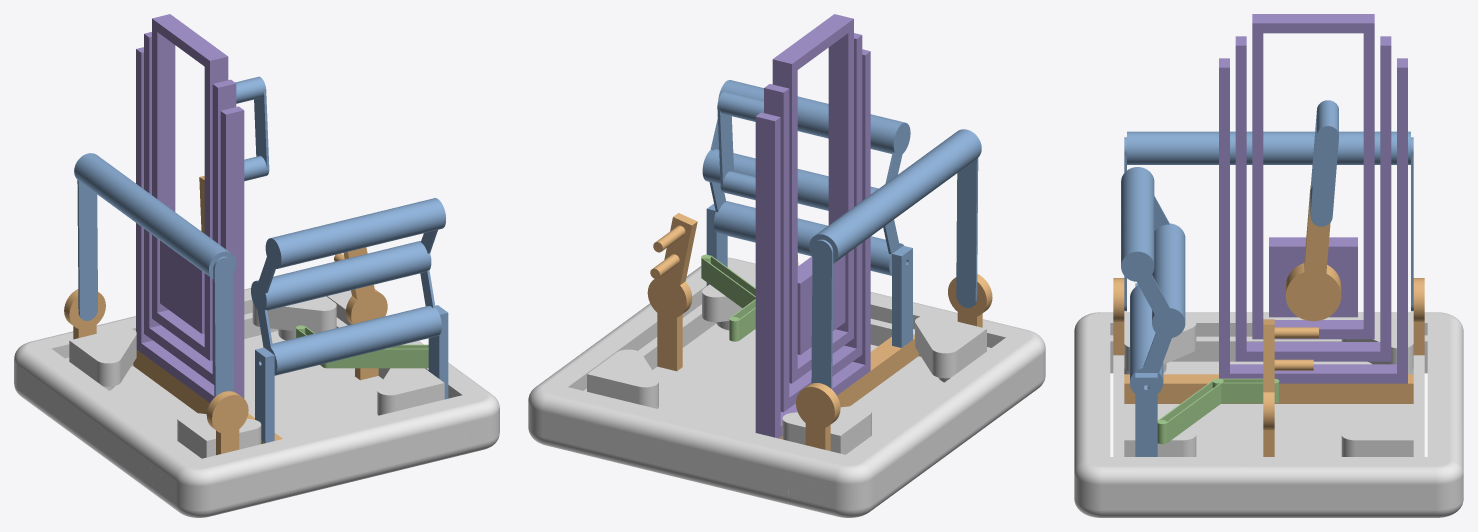
3 views of the same model, side by side, from view 1: azimuth 30°, elevation 25°; view 2: azimuth 150°, elevation 25°; view 3: azimuth 270°, elevation 25° (orthographic). The views are drawn at different scales.
Visible parts, largest first — view 1: id115, Elevator <1>, Rollers, Horizontal Roller (×2), Arm Segment (×3), 2x1 (×2), Carriage, Belt, Generic Structure Piece; view 2: id115, Elevator <1>, Horizontal Roller (×2), Rollers, Arm Segment (×3), Generic Structure Piece (×2), 2x1 (×2), Belt (×2), Carriage; view 3: id115, Elevator <1>, Horizontal Roller (×2), Rollers, Arm Segment (×4), Generic Structure Piece (×3), Carriage, Belt (×2), 2x1.
Boxes of the visible parts, left/top/right/bottom form: id115: left=14, top=288, right=499, bottom=517; Elevator <1>: left=136, top=14, right=244, bottom=402; Rollers: left=251, top=198, right=445, bottom=375; Horizontal Roller (×2): left=74, top=76, right=269, bottom=397; Arm Segment (×3): left=64, top=247, right=387, bottom=455; 2x1 (×2): left=255, top=305, right=448, bottom=443; Carriage: left=160, top=240, right=204, bottom=333; Belt: left=325, top=344, right=428, bottom=368; Generic Structure Piece: left=133, top=350, right=282, bottom=443; id115: left=528, top=257, right=1045, bottom=517; Elevator <1>: left=755, top=14, right=870, bottom=438; Horizontal Roller (×2): left=717, top=91, right=981, bottom=389; Rollers: left=702, top=80, right=910, bottom=275; Arm Segment (×3): left=647, top=213, right=992, bottom=450; Generic Structure Piece (×2): left=657, top=295, right=918, bottom=439; 2x1 (×2): left=706, top=204, right=912, bottom=347; Belt (×2): left=701, top=254, right=755, bottom=341; Carriage: left=797, top=255, right=845, bottom=354; id115: left=1074, top=312, right=1463, bottom=517; Elevator <1>: left=1219, top=14, right=1407, bottom=383; Horizontal Roller (×2): left=1124, top=100, right=1413, bottom=311; Rollers: left=1121, top=167, right=1185, bottom=393; Arm Segment (×4): left=1113, top=185, right=1424, bottom=430; Generic Structure Piece (×3): left=1124, top=327, right=1413, bottom=403; Carriage: left=1269, top=237, right=1357, bottom=317; Belt (×2): left=1157, top=378, right=1279, bottom=444; 2x1: left=1135, top=373, right=1157, bottom=456.
Bounding box in the file's own units: 0.889 × 1 × 0.889.
